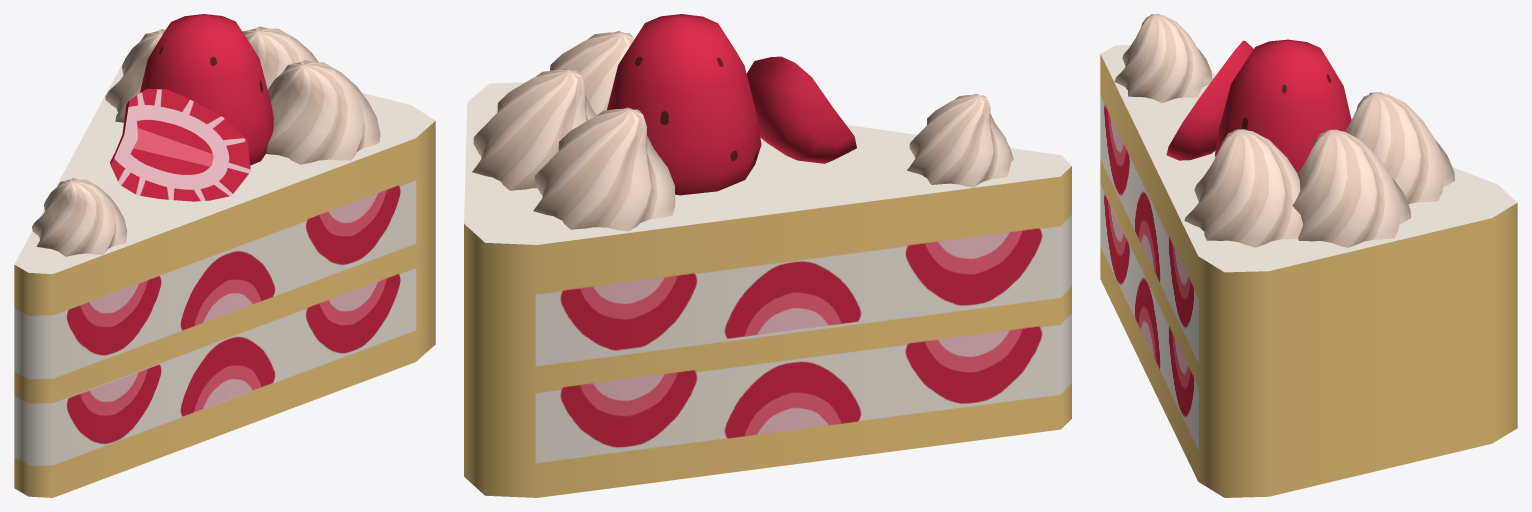
The model's file is m_shortcakeV1.fbx.
The picture shows the model from 3 angles, left to right: view 1: azimuth 30°, elevation 25°; view 2: azimuth 150°, elevation 25°; view 3: azimuth 270°, elevation 25°; orthographic projection. The views are drawn at different scales.
Parts seen in each view (by area): view 1: shortcakeV1; view 2: shortcakeV1; view 3: shortcakeV1.
Boxes of the visible parts, left/top/right/bottom form: shortcakeV1: left=14, top=14, right=435, bottom=497; shortcakeV1: left=464, top=14, right=1071, bottom=497; shortcakeV1: left=1100, top=14, right=1517, bottom=497.
Bounding box in the file's own units: 21.41 × 15.63 × 16.55.
